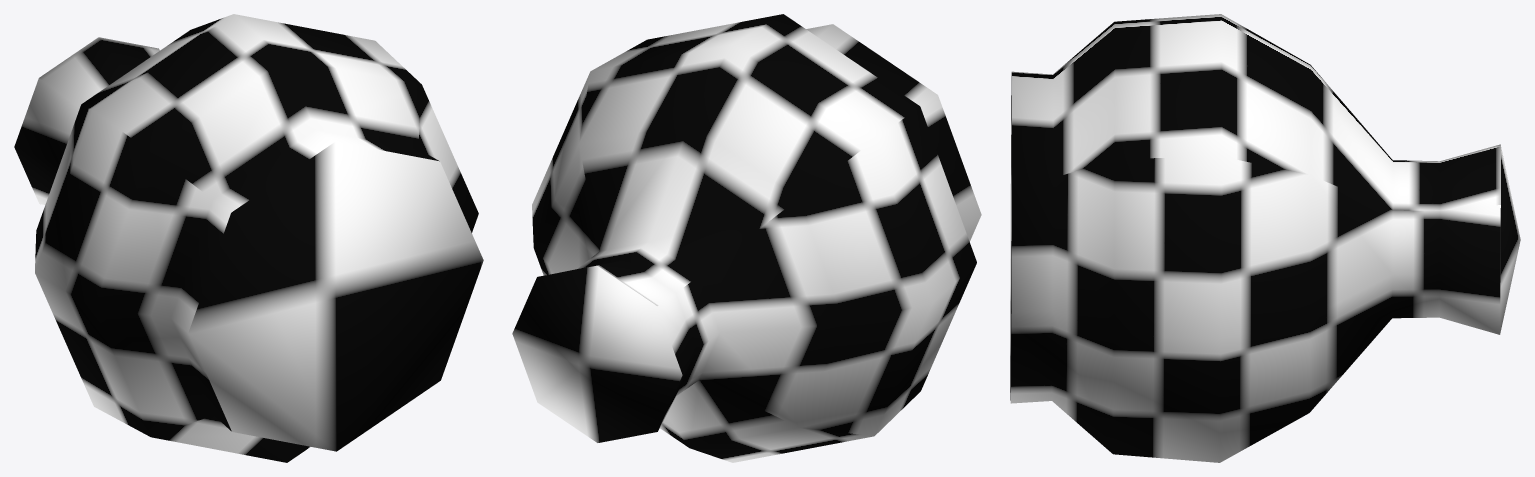
The model's file is initqi18.dae.
3 views of the same model, side by side, from view 1: azimuth 30°, elevation 25°; view 2: azimuth 150°, elevation 25°; view 3: azimuth 270°, elevation 25° (orthographic). The views are drawn at different scales.
Visible parts, largest first — view 1: item; view 2: item; view 3: item.
Boxes of the visible parts, x1,y1,x2,y2 form: item: (14, 14, 483, 462); item: (512, 14, 981, 462); item: (1010, 14, 1520, 462).
Bounding box in the file's own units: 0.9996 × 1.07 × 0.9996.
1 material, 1 textured.
